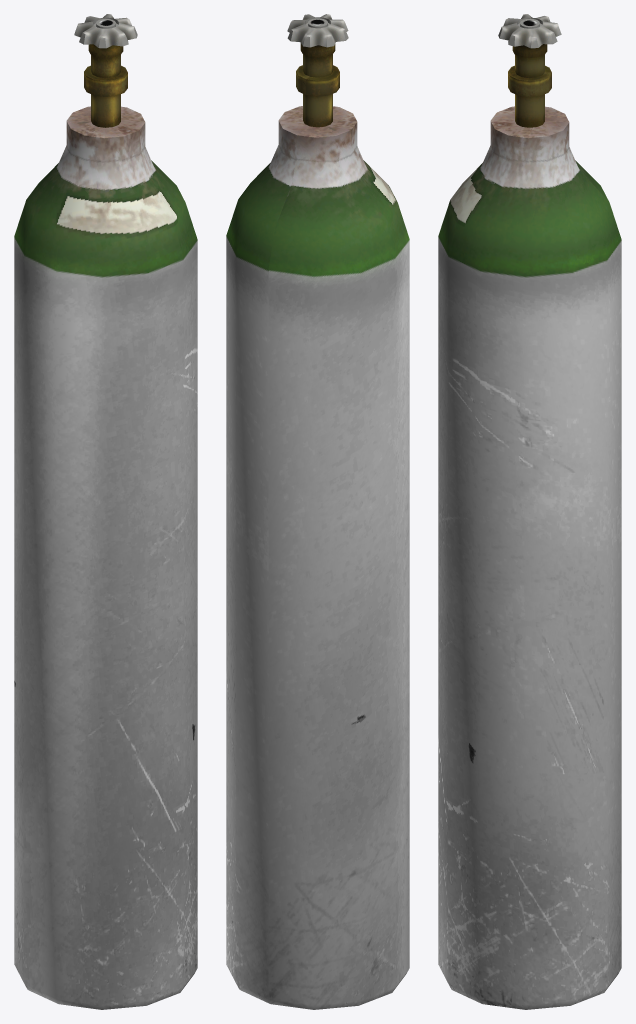
File: o2_tank.dae
3 renders of one model, left to right at view 1: azimuth 30°, elevation 25°; view 2: azimuth 150°, elevation 25°; view 3: azimuth 270°, elevation 25°, orthographic.
Visible parts, largest first — view 1: o2_tank; view 2: o2_tank; view 3: o2_tank.
Part boxes in pixels (x1,y1,x2,y2): o2_tank: [14, 14, 197, 1009]; o2_tank: [226, 14, 409, 1009]; o2_tank: [438, 14, 621, 1009].
Size of the model in its own units: 0.3112 by 0.3112 by 1.78.
Materials: 1 (1 with a texture image).
